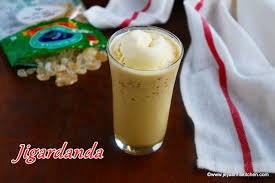jigirthanda: (113, 35, 172, 154)
